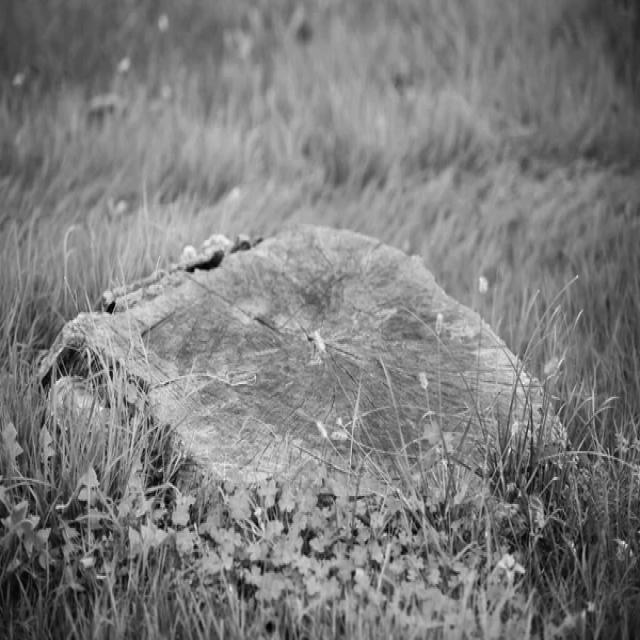Stone: (38, 226, 556, 483)
